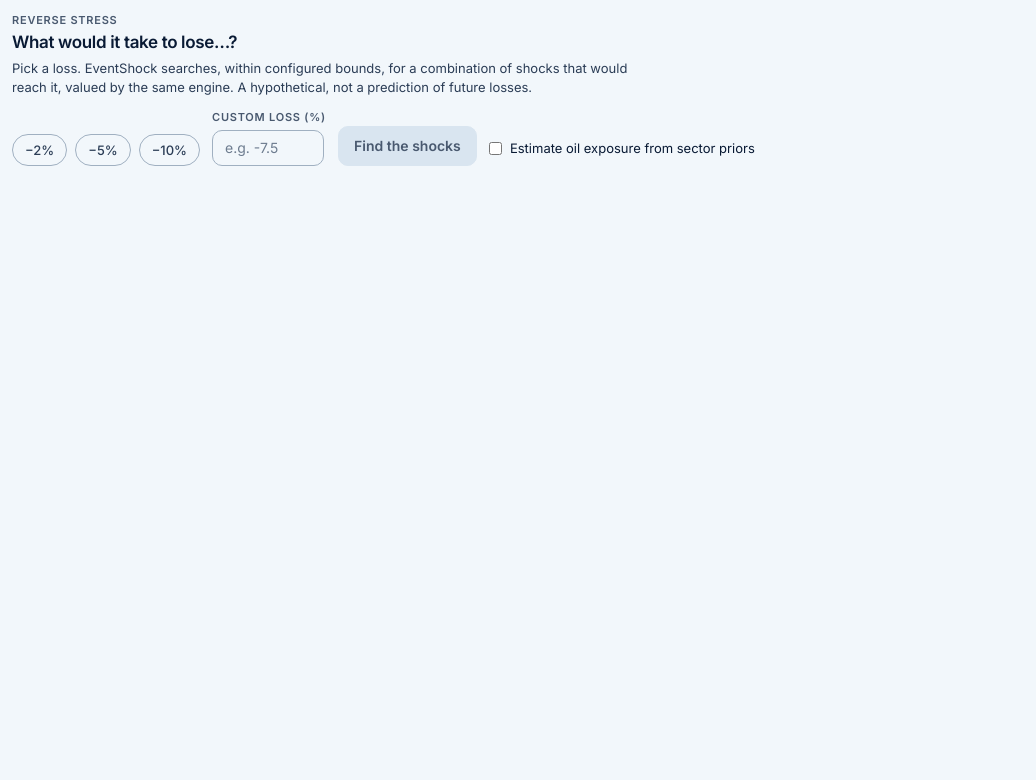
Test case: ReverseStress › runs a preset in one click
Step 1. Click the button "−5%" → point(103, 150), box [75, 134, 131, 166]
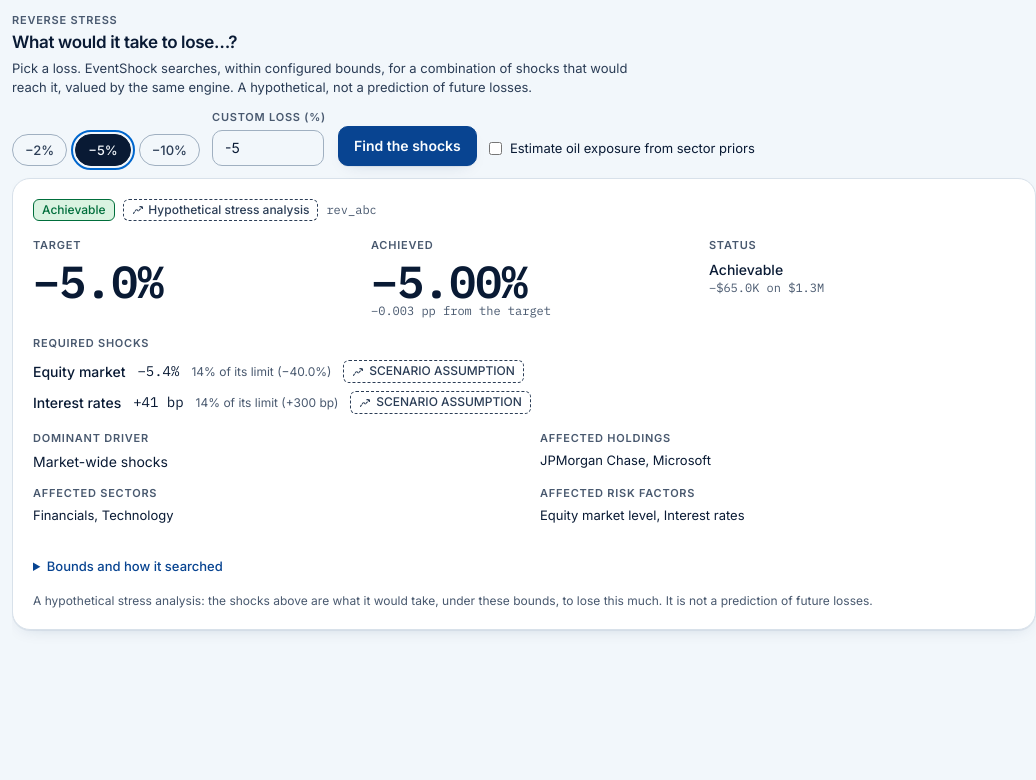
Expected: the element named "Reverse stress result" is shown, [12, 178, 1035, 630]
